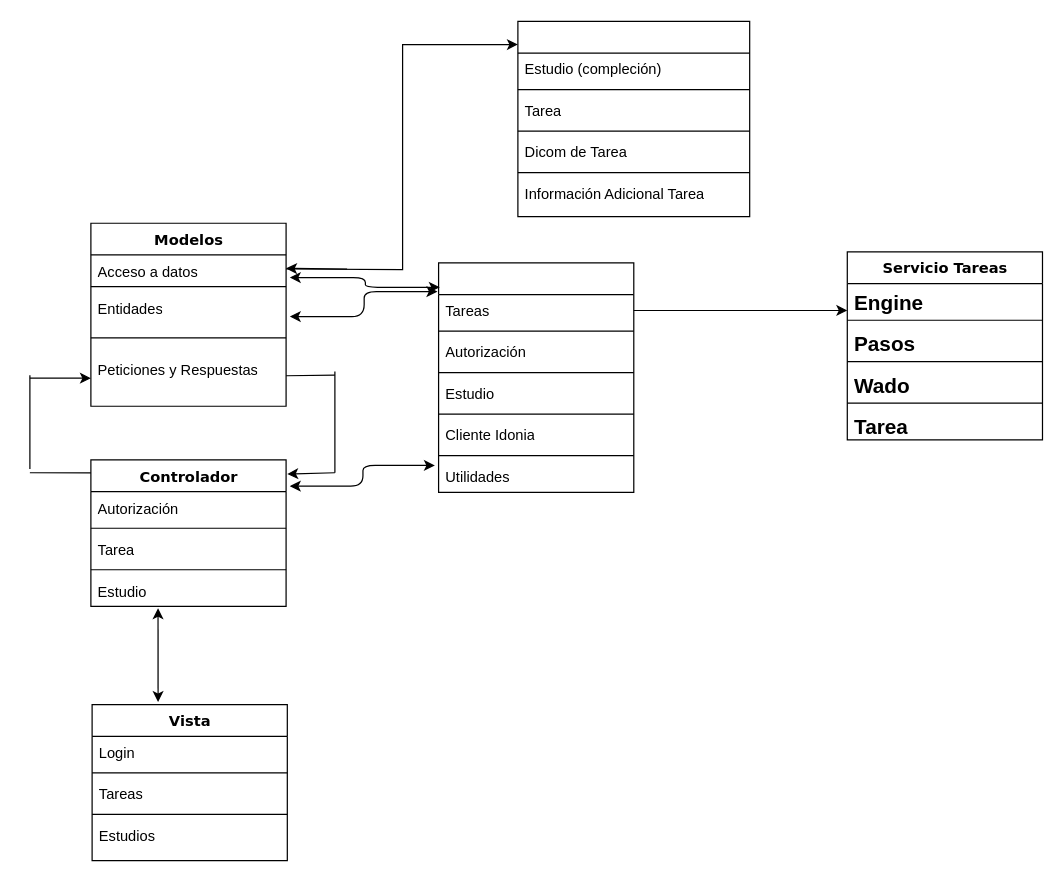
Some shapes in this 1064 by 882 pixel diagram are drawn without their labels. Each missing label, with the box of its shape:
Repository: (517, 20, 750, 217)
Servicios: (437, 262, 634, 492)
